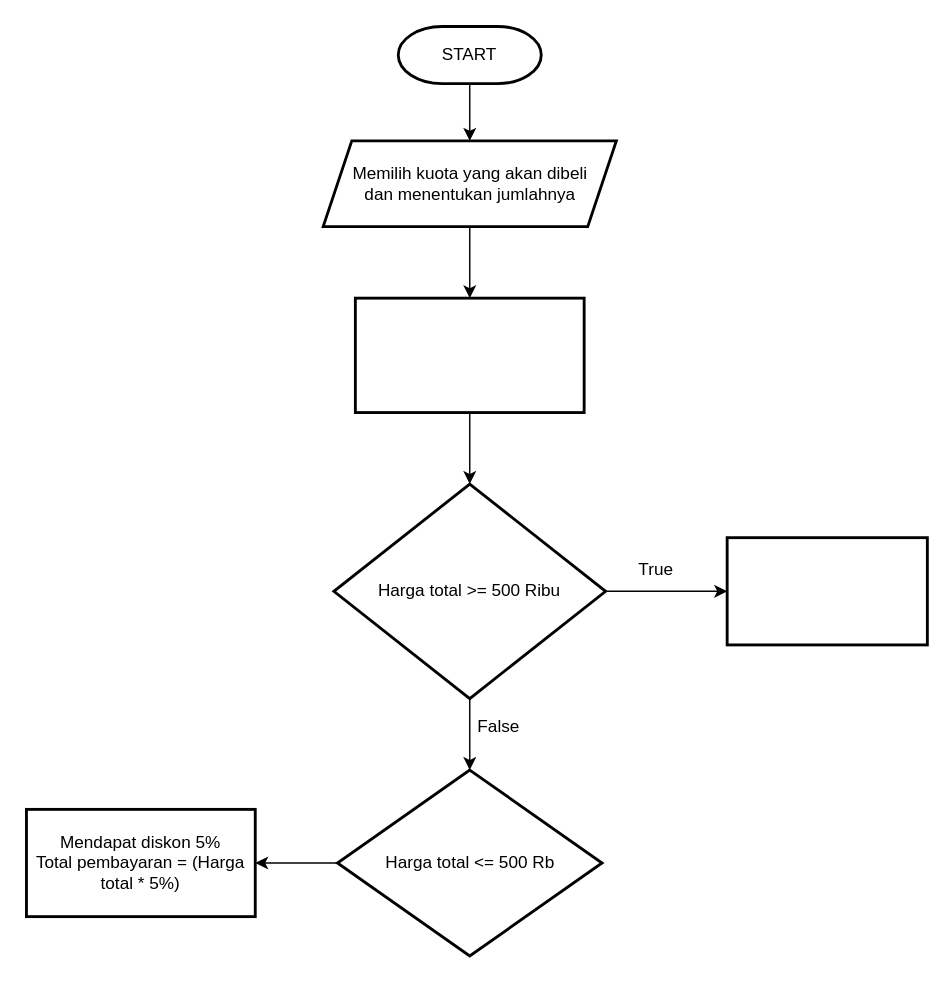
This 952x981 diagram has some shape labels left out. Here are the shapes that lost their labels. From the top down, the centre of each, then its label:
At (469,354): "Perhitungan harga kuota satuan * jumlah yang akan dibeli".
At (826,591): "Mendapat diskon 15% Total pembayaran = (Harga total * 15%)".
